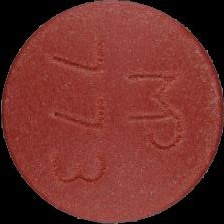53489-370: (0, 0, 224, 224)
